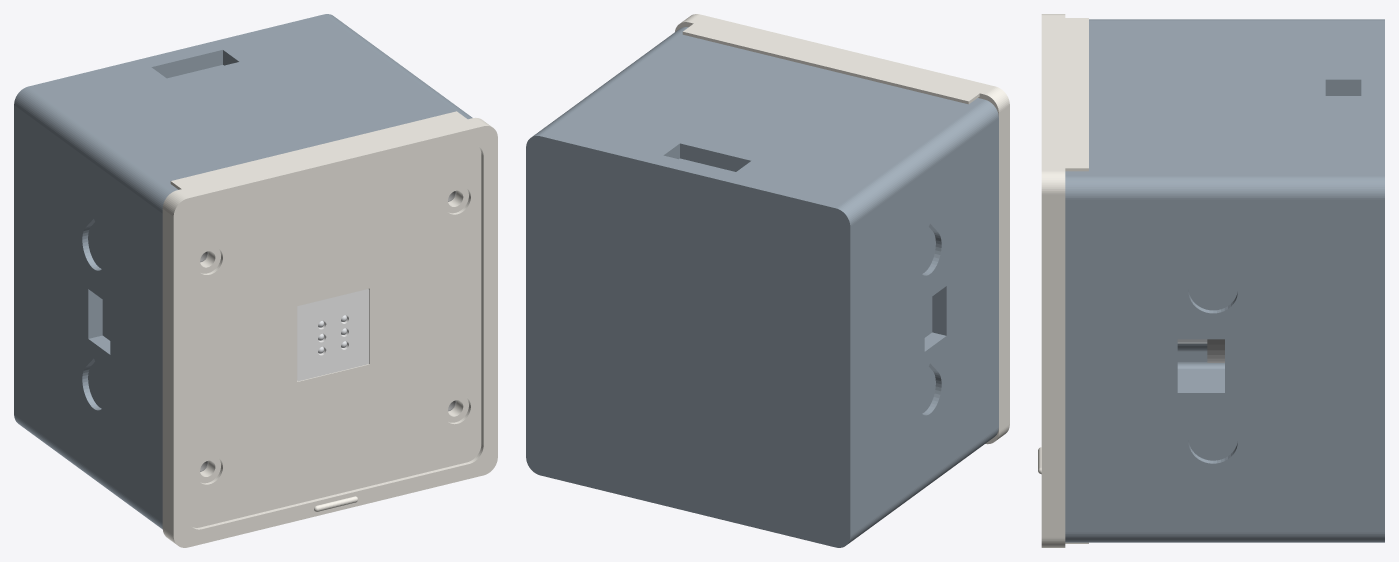
Rendered from braillix.glb.
3 renders of one model, left to right at view 1: azimuth 30°, elevation 25°; view 2: azimuth 150°, elevation 25°; view 3: azimuth 270°, elevation 25°, orthographic. The views are drawn at different scales.
Parts seen in each view (by area): view 1: top_plate, outer_box, dot_insert; view 2: outer_box, top_plate; view 3: outer_box, top_plate, mid_plate.
Part boxes in pixels (box(x1,y1,x2,y2)): top_plate: box(162, 111, 497, 547); outer_box: box(14, 14, 472, 529); dot_insert: box(297, 289, 369, 381); outer_box: box(526, 27, 998, 547); top_plate: box(675, 14, 1009, 444); outer_box: box(1065, 19, 1384, 542); top_plate: box(1038, 14, 1088, 547); mid_plate: box(1207, 339, 1224, 362).
Size of the model in its own units: 68 by 70.41 by 58.59.
